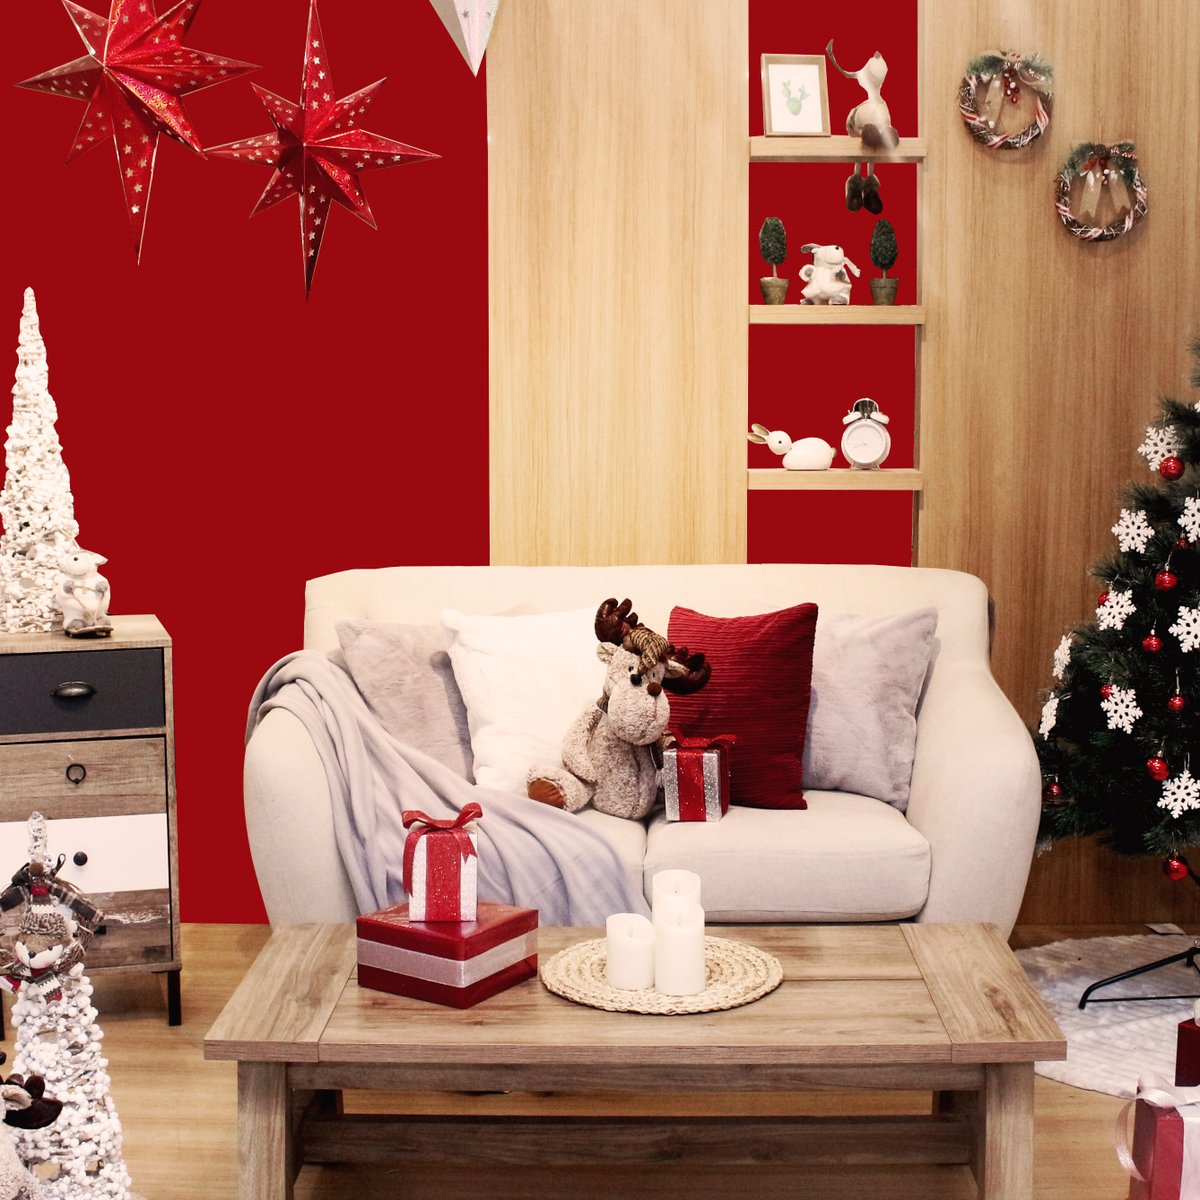bantal: (665, 604, 811, 805), (454, 645, 622, 808), (342, 618, 467, 803), (812, 604, 921, 814)
gelas: (651, 903, 708, 990), (605, 910, 652, 996)
meja: (200, 921, 1068, 1199)
sova: (246, 558, 1038, 931)
tanaman: (1048, 327, 1200, 871)
